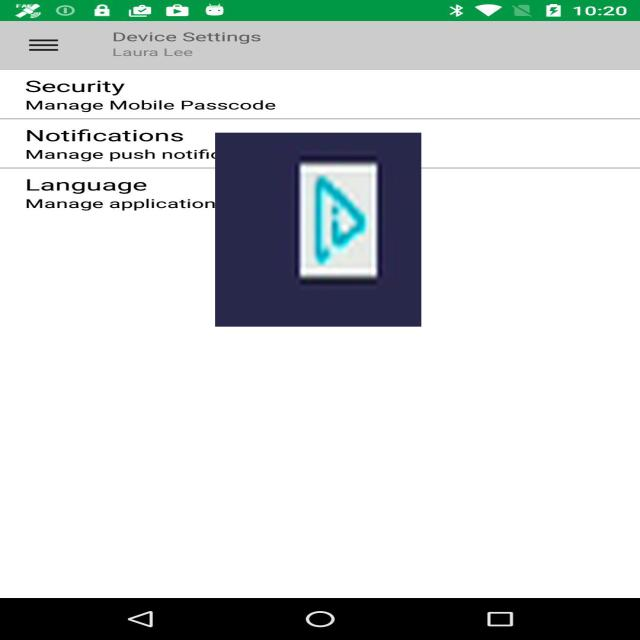sneaking: (215, 132, 421, 326)
